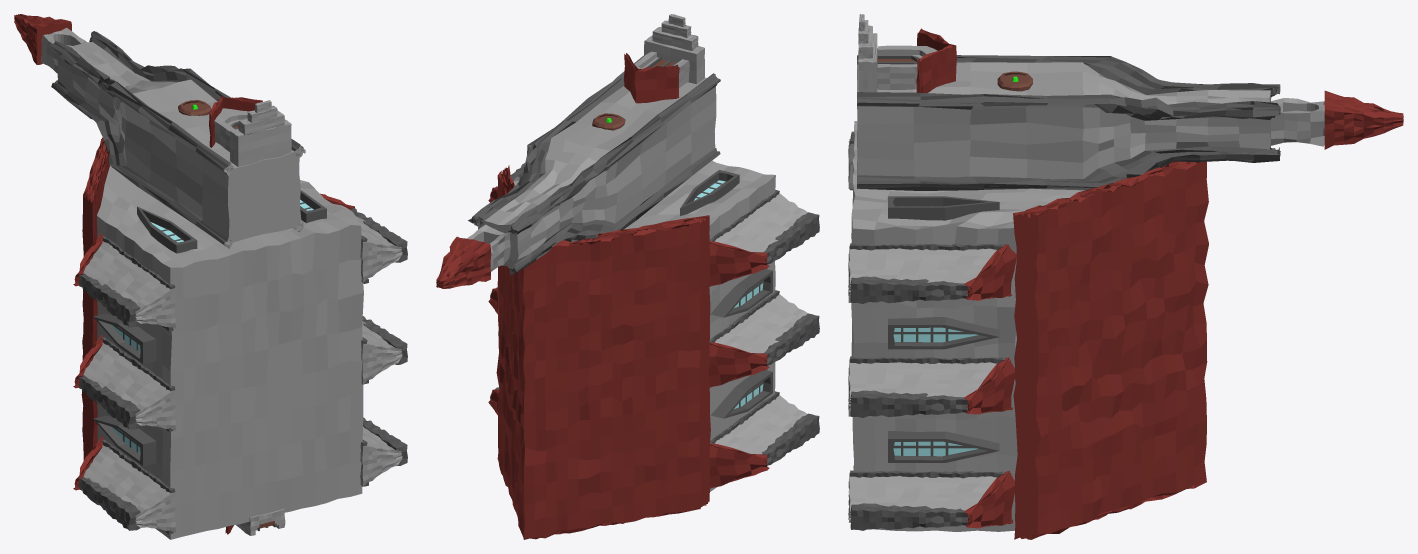
File: church2.fbx
3 renders of one model, left to right at view 1: azimuth 30°, elevation 25°; view 2: azimuth 150°, elevation 25°; view 3: azimuth 270°, elevation 25°, orthographic. The views are drawn at different scales.
Parts seen in each view (by area): view 1: Church 2; view 2: Church 2; view 3: Church 2.
Boxes of the visible parts, box(x1,y1,x2,y2) form: Church 2: box(14, 14, 407, 539); Church 2: box(436, 14, 819, 539); Church 2: box(848, 14, 1403, 539).
Size of the model in its own units: 145974 by 216646 by 222996.
